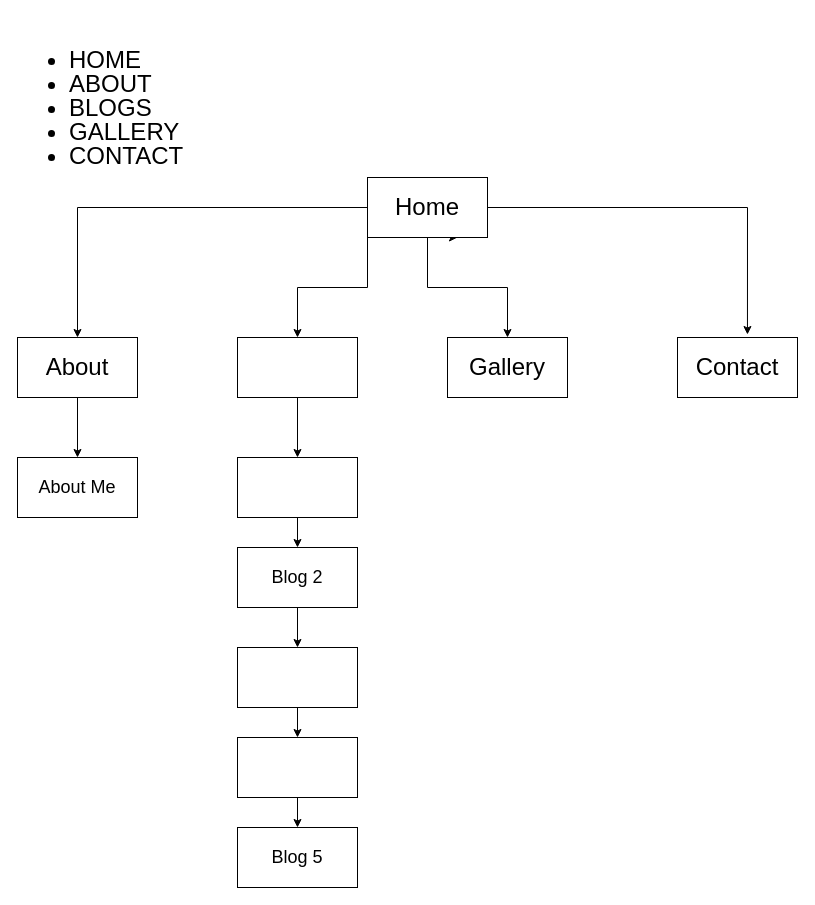
Some shapes in this 815 by 905 pixel diagram are drawn without their labels. Here are the shapes that lost their labels. From the top down, the centre of each, then its label:
the point at 297,367: Blogs
the point at 297,487: Blog 1
the point at 297,677: Blog 3
the point at 297,767: Blog 4
